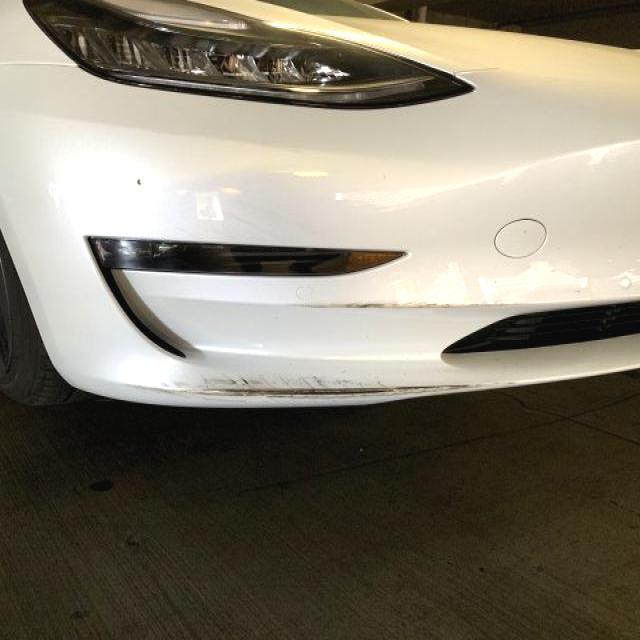minor: (297, 303, 473, 312)
moderate: (205, 370, 462, 396)
